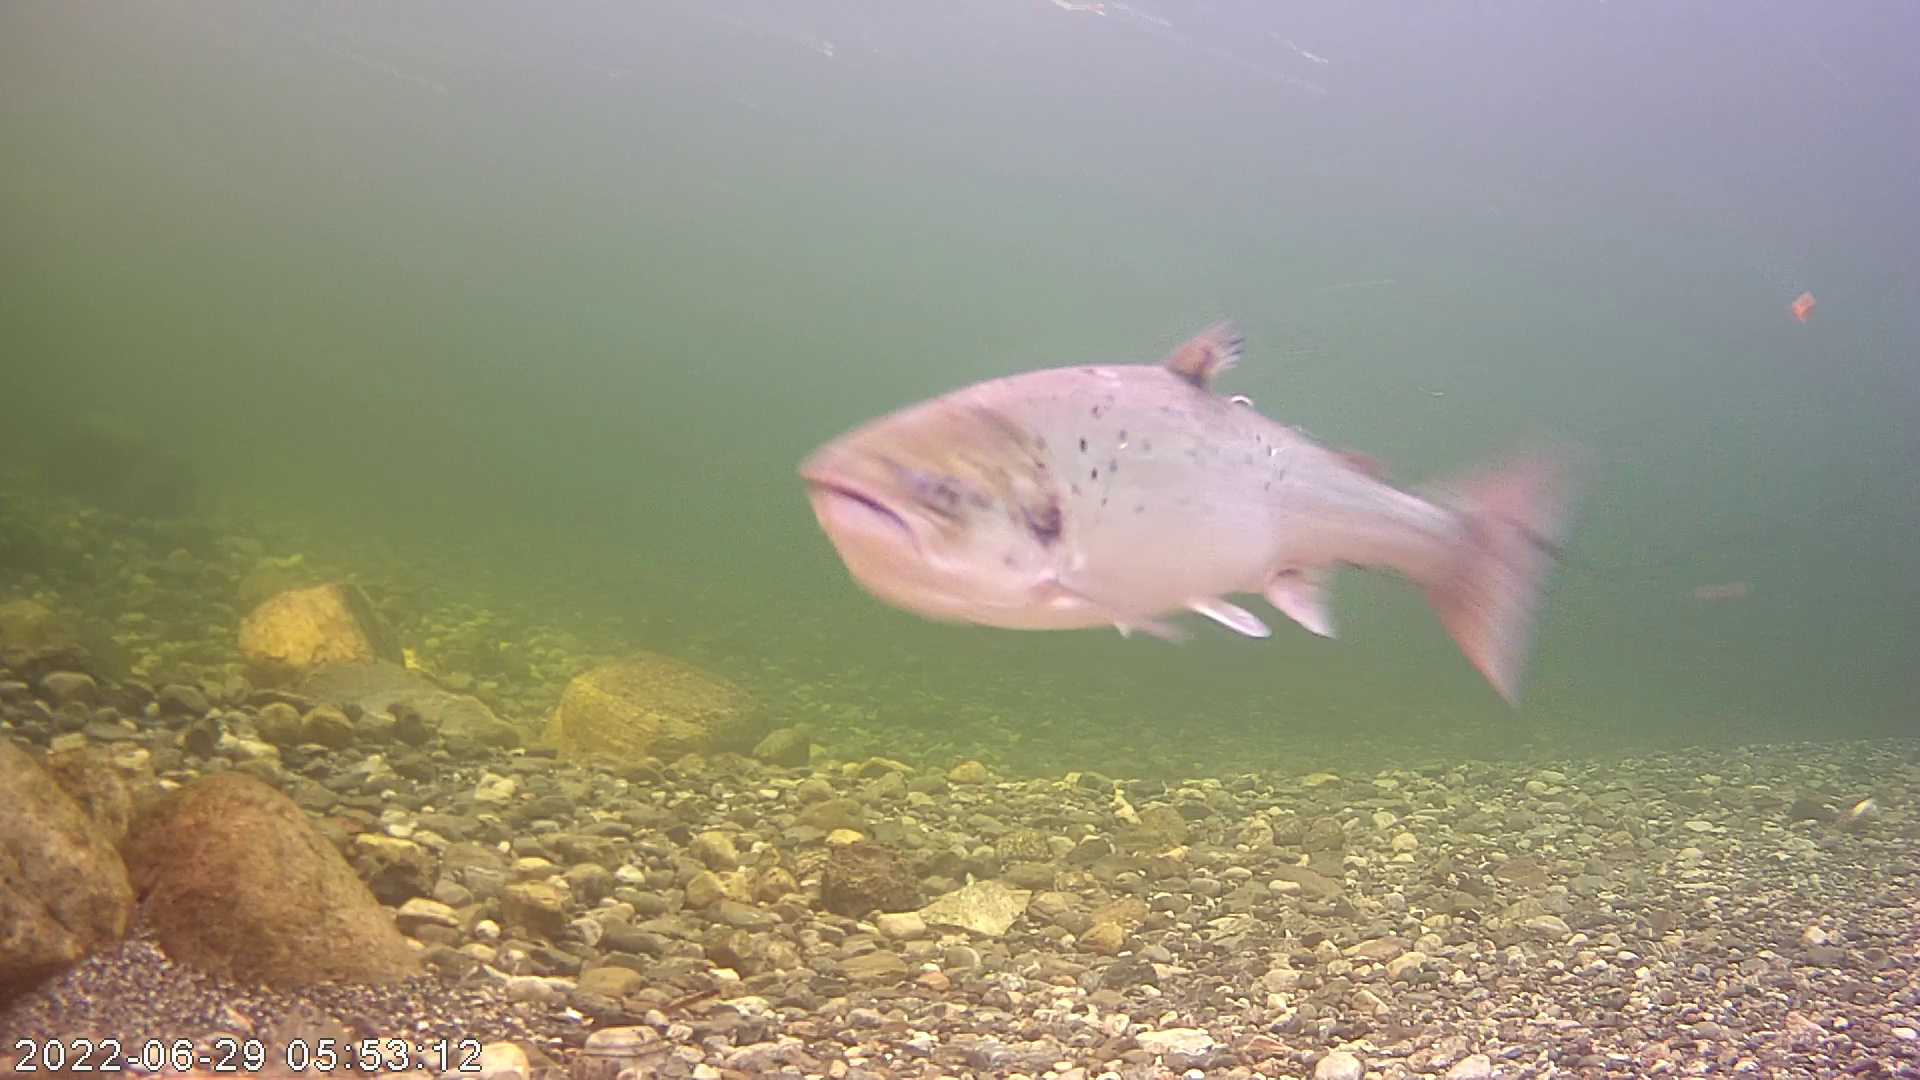salmon: (791, 258, 1586, 691)
